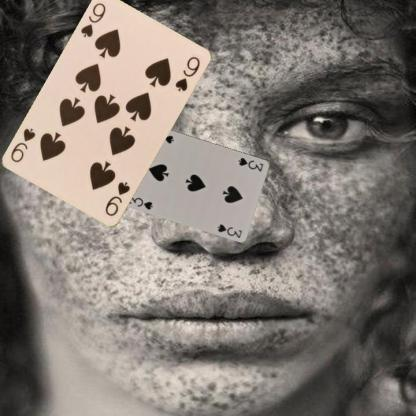3s: (235, 155, 264, 173), (126, 192, 154, 210)
9s: (77, 0, 108, 40), (102, 180, 132, 218)
